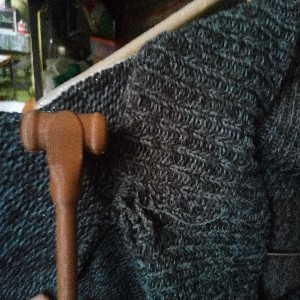palu: (19, 108, 107, 300)
